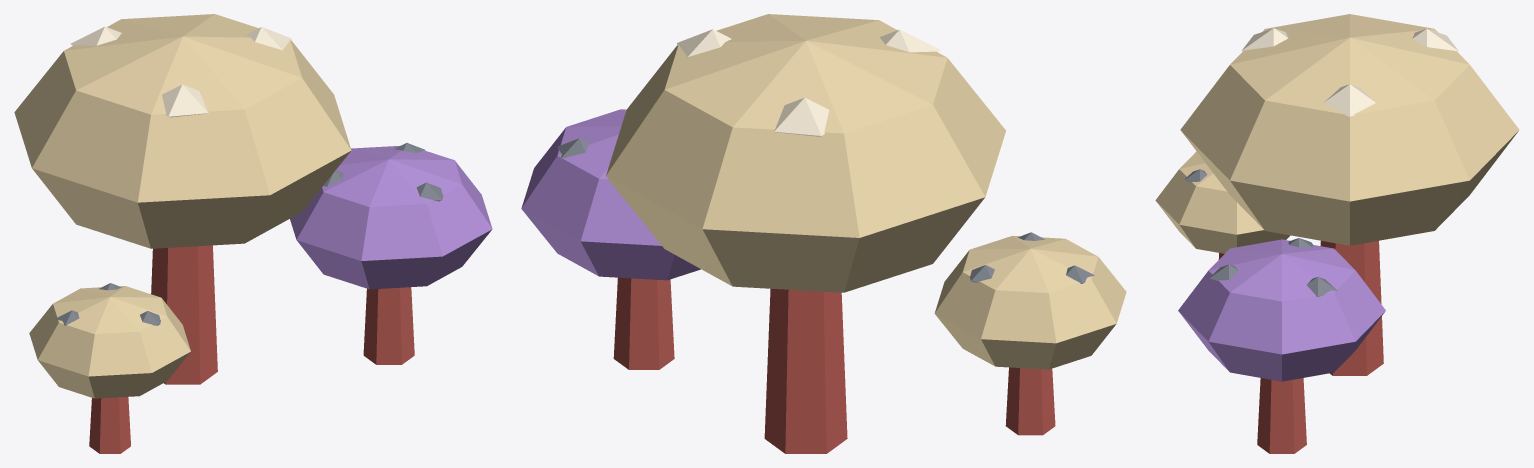
The model's file is deco_blue_mushroom.obj.
The picture shows the model from 3 angles, left to right: view 1: azimuth 30°, elevation 25°; view 2: azimuth 150°, elevation 25°; view 3: azimuth 270°, elevation 25°; orthographic projection. The views are drawn at different scales.
Visible parts, largest first — view 1: deco_blue_mushroom; view 2: deco_blue_mushroom; view 3: deco_blue_mushroom.
Part boxes in pixels (x1,y1,x2,y2): deco_blue_mushroom: (14,14,492,453); deco_blue_mushroom: (521,14,1126,453); deco_blue_mushroom: (1155,14,1519,453).
Size of the model in its own units: 0.0464 by 0.0318 by 0.0322.
Materials: 1 (1 with a texture image).
